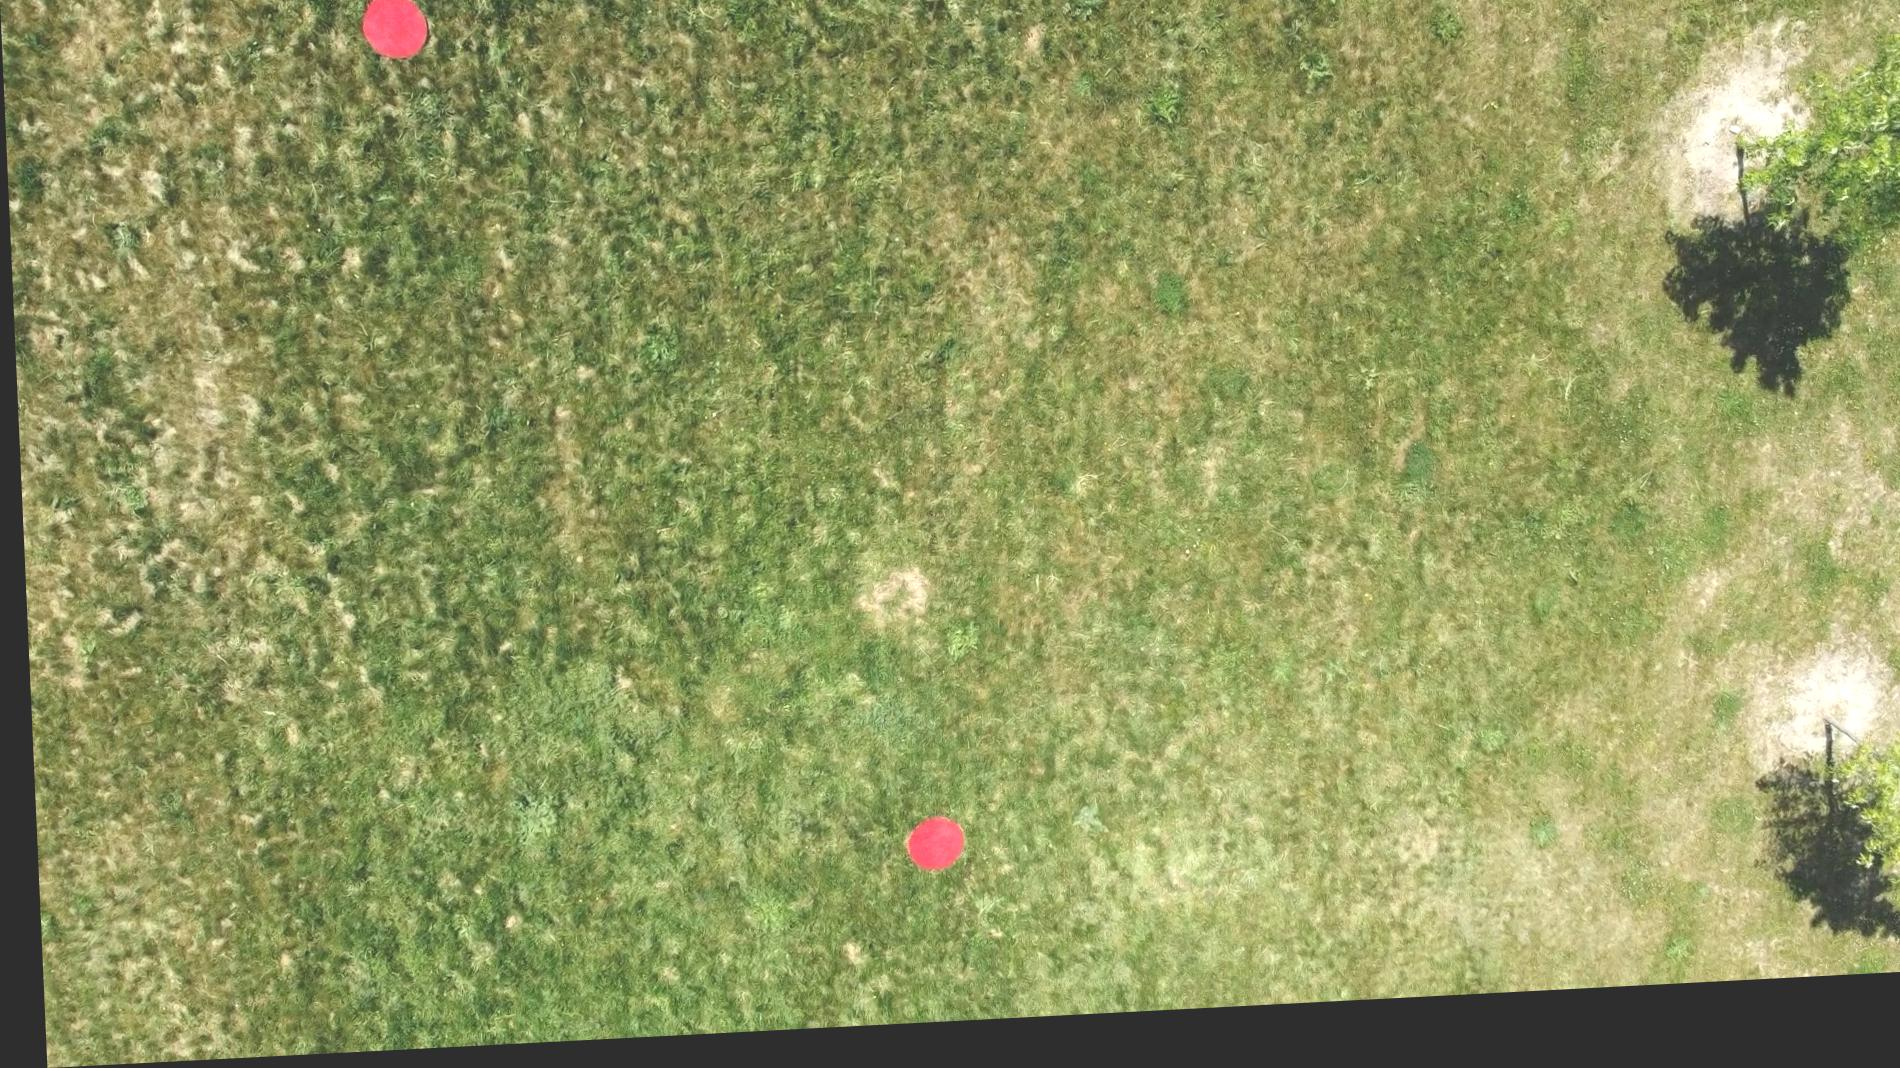Red: (356, 0, 431, 67), (895, 824, 962, 884)
